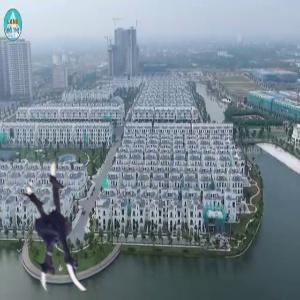drone: (2, 165, 134, 297)
